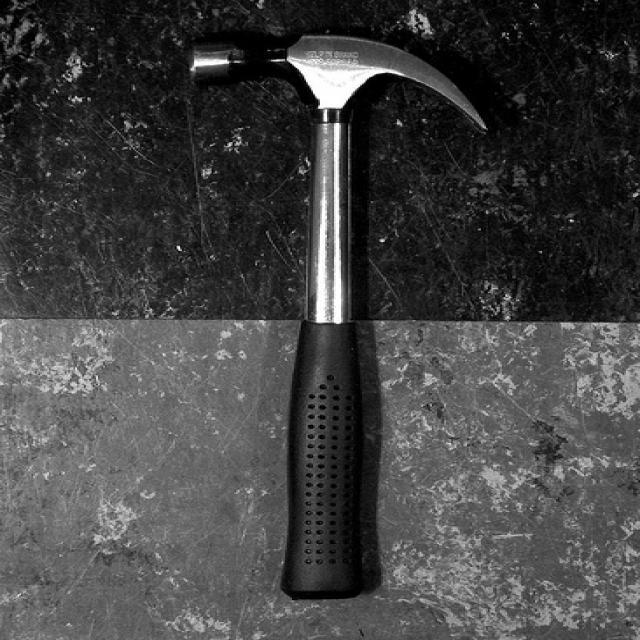hammer: (172, 26, 500, 606)
